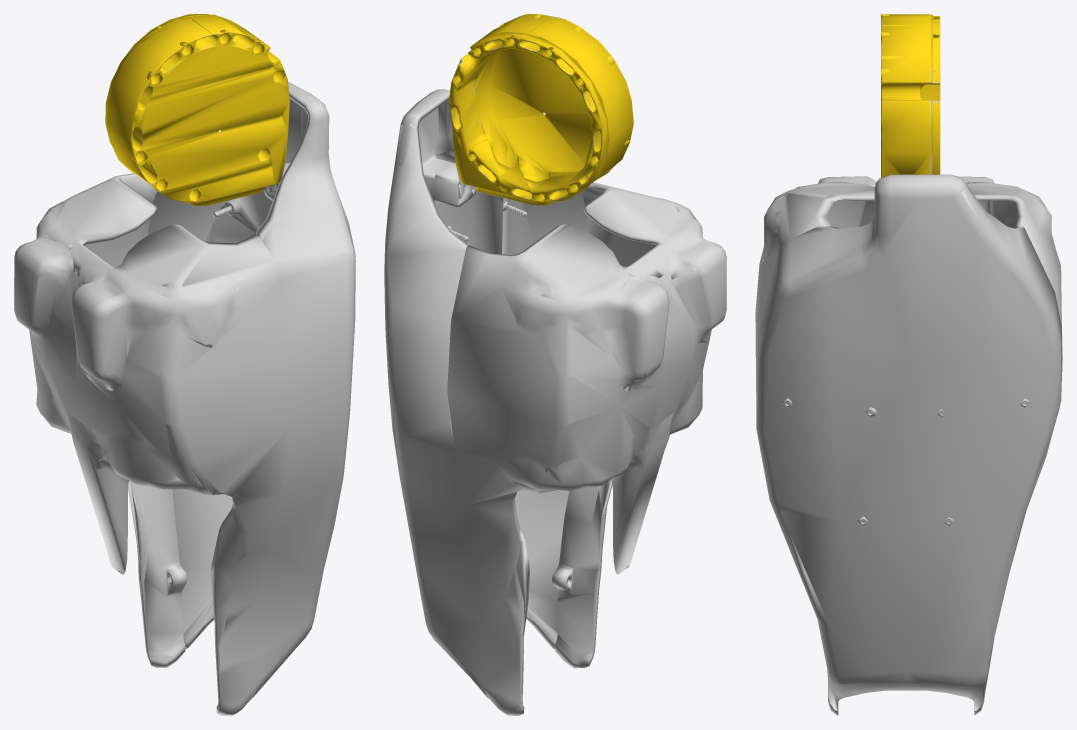
File: lj4_left.dae
3 views of the same model, side by side, from view 1: azimuth 30°, elevation 25°; view 2: azimuth 150°, elevation 25°; view 3: azimuth 270°, elevation 25° (orthographic). The views are drawn at different scales.
Visible parts, largest first — view 1: Shin_Left; view 2: Shin_Left; view 3: Shin_Left.
Boxes of the visible parts, x1=… form: Shin_Left: x1=14, y1=14, x2=355, y2=715; Shin_Left: x1=384, y1=14, x2=726, y2=715; Shin_Left: x1=755, y1=14, x2=1062, y2=715.
Size of the model in its own units: 0.1865 by 0.1791 by 0.4455.
